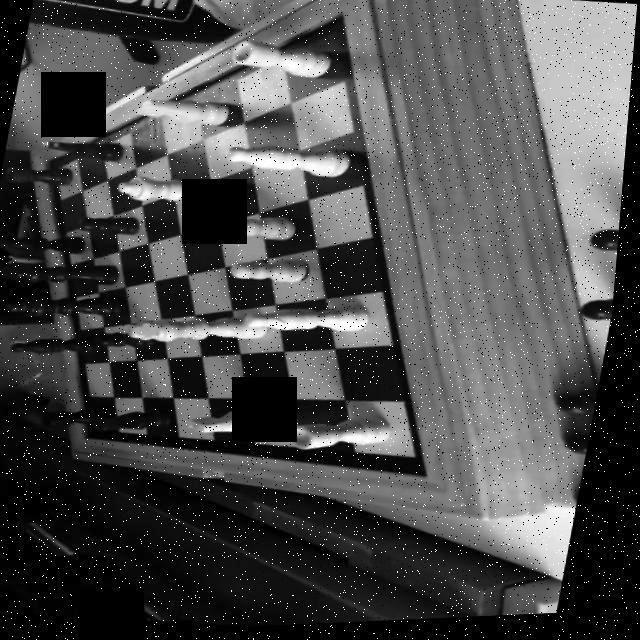chess-table-corners: (410, 457, 450, 490), (78, 426, 108, 448), (325, 7, 351, 29), (38, 156, 62, 172)
